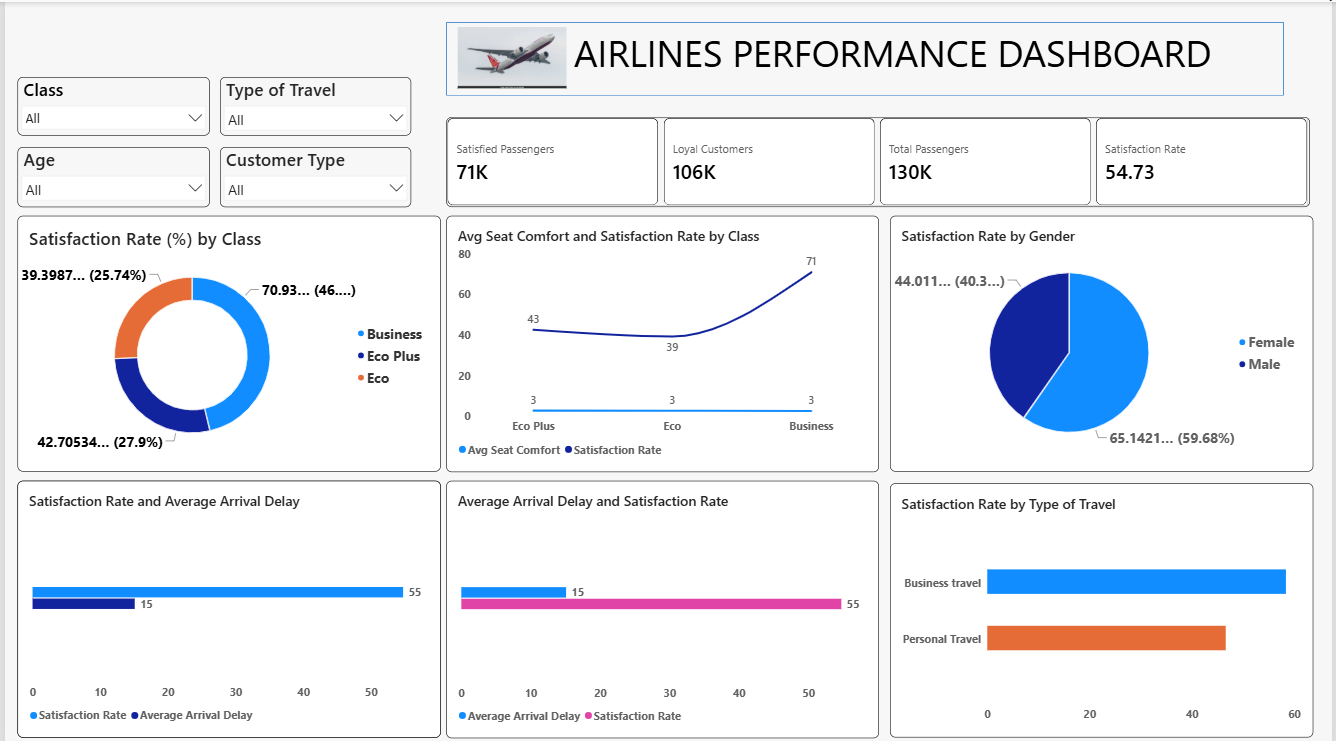

The page's visual inventory and layout, read from the dashboard file:
{"tool":"powerbi","page":{"name":"Page 1","canvas":[1920,1080],"ordinal":0},"visuals":[{"type":"slicer","fields":{"Values":["Airline Passenger Satisfaction data.Age"]},"box":[18.1,209.9,278.7,86.9],"z":0},{"type":"slicer","fields":{"Values":["Airline Passenger Satisfaction data.Customer Type"]},"box":[311.3,209.9,276.9,86.9],"z":1000},{"type":"slicer","fields":{"Values":["Airline Passenger Satisfaction data.Class"]},"box":[18.1,108.6,278.7,85.1],"z":2000},{"type":"slicer","fields":{"Values":["Airline Passenger Satisfaction data.Type of Travel"]},"box":[311.3,108.6,276.9,85.1],"z":3000},{"type":"cardVisual","fields":{"Data":["Airline Passenger Satisfaction data.Satisfied Passengers","Airline Passenger Satisfaction data.Loyal Customers","Airline Passenger Satisfaction data.Total Passengers","Airline Passenger Satisfaction data.Satisfaction Rate"]},"box":[638.8,166.5,1250.5,130.3],"z":4000},{"type":"donutChart","title":"Satisfaction Rate  (%) by Class","fields":{"Category":["Airline Passenger Satisfaction data.Class"],"Y":["Airline Passenger Satisfaction data.Satisfaction Rate"]},"box":[17.3,309.5,612.5,370.1],"z":5000},{"type":"lineChart","fields":{"Category":["Airline Passenger Satisfaction data.Class"],"Y":["Airline Passenger Satisfaction data.Avg Seat Comfort","Airline Passenger Satisfaction data.Satisfaction Rate"]},"box":[638.8,309.5,626.1,371],"z":6000},{"type":"pieChart","fields":{"Category":["Airline Passenger Satisfaction data.Gender"],"Y":["Airline Passenger Satisfaction data.Satisfaction Rate"]},"box":[1281.2,309.5,612.5,370.1],"z":7000},{"type":"barChart","fields":{"Category":["Airline Passenger Satisfaction data.Type of Travel"],"Y":["Airline Passenger Satisfaction data.Satisfaction Rate"]},"box":[1281.2,696.9,612.5,367.9],"z":8000},{"type":"clusteredBarChart","fields":{"Y":["Airline Passenger Satisfaction data.Average Satisfaction %","Airline Passenger Satisfaction data.Average Arrival Delay"]},"box":[17.3,692.5,612.5,372.2],"z":9000},{"type":"clusteredBarChart","fields":{"Y":["Airline Passenger Satisfaction data.Average Arrival Delay","Airline Passenger Satisfaction data.Satisfaction Rate"]},"box":[638.8,693.1,626.1,372.8],"z":10000},{"type":"clusteredBarChart","fields":{"Y":["Airline Passenger Satisfaction data.Satisfaction Rate","Airline Passenger Satisfaction data.Average Arrival Delay"]},"box":[17.3,692.5,612.5,372.2],"z":11000},{"type":"textbox","box":[638.8,36.2,1250.5,72.4],"z":11001},{"type":"shape","box":[638.8,29,1212.5,106.8],"z":11002},{"type":"image","box":[629.8,36.2,208.1,88.7],"z":11003}]}

Visuals, with their boxes in screenshot pixels (x1, y1, x2, y2), scaled from the page's 1920x1080 canvas onto the 1336x741 screenshot:
slicer - Airline Passenger Satisfaction data.Age: [13, 144, 207, 204]
slicer - Airline Passenger Satisfaction data.Customer Type: [217, 144, 409, 204]
slicer - Airline Passenger Satisfaction data.Class: [13, 75, 207, 133]
slicer - Airline Passenger Satisfaction data.Type of Travel: [217, 75, 409, 133]
cardVisual - Airline Passenger Satisfaction data.Satisfied Passengers x Airline Passenger Satisfaction data.Loyal Customers: [444, 114, 1315, 204]
"Satisfaction Rate  (%) by Class" donutChart: [12, 212, 438, 466]
lineChart - Airline Passenger Satisfaction data.Class x Airline Passenger Satisfaction data.Avg Seat Comfort: [444, 212, 880, 467]
pieChart - Airline Passenger Satisfaction data.Gender x Airline Passenger Satisfaction data.Satisfaction Rate: [892, 212, 1318, 466]
barChart - Airline Passenger Satisfaction data.Type of Travel x Airline Passenger Satisfaction data.Satisfaction Rate: [892, 478, 1318, 731]
clusteredBarChart - Airline Passenger Satisfaction data.Average Satisfaction % x Airline Passenger Satisfaction data.Average Arrival Delay: [12, 475, 438, 731]
clusteredBarChart - Airline Passenger Satisfaction data.Average Arrival Delay x Airline Passenger Satisfaction data.Satisfaction Rate: [444, 476, 880, 731]
clusteredBarChart - Airline Passenger Satisfaction data.Satisfaction Rate x Airline Passenger Satisfaction data.Average Arrival Delay: [12, 475, 438, 731]
textbox: [444, 25, 1315, 75]
shape: [444, 20, 1288, 93]
image: [438, 25, 583, 86]
